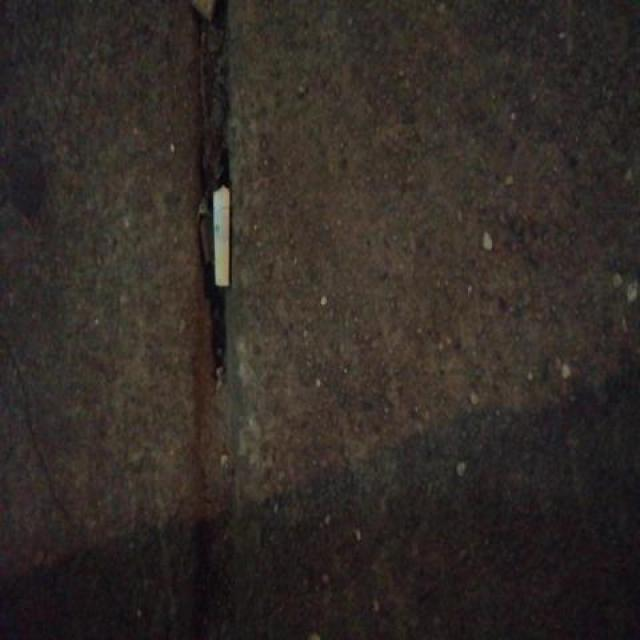non-organic waste: (211, 182, 233, 290)
